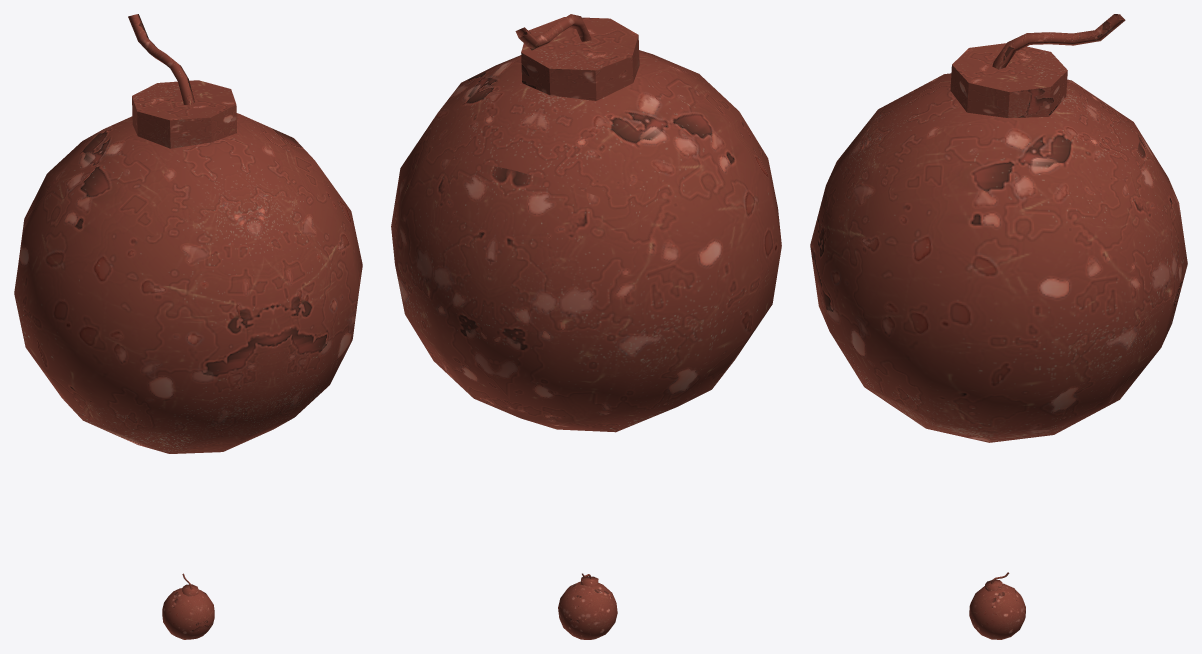
The model's file is Bomb.fbx.
The picture shows the model from 3 angles, left to right: view 1: azimuth 30°, elevation 25°; view 2: azimuth 150°, elevation 25°; view 3: azimuth 270°, elevation 25°; orthographic projection. The views are drawn at different scales.
Visible parts, largest first — view 1: SuperBigBomb, Bomb; view 2: SuperBigBomb, Bomb; view 3: SuperBigBomb, Bomb.
Boxes of the visible parts, left/top/right/bottom form: SuperBigBomb: left=14, top=14, right=362, bottom=453; Bomb: left=162, top=573, right=214, bottom=639; SuperBigBomb: left=391, top=14, right=781, bottom=432; Bomb: left=558, top=573, right=617, bottom=639; SuperBigBomb: left=810, top=14, right=1187, bottom=442; Bomb: left=969, top=572, right=1025, bottom=639.
Bounding box in the file's own units: 10.28 × 18.73 × 10.27.
